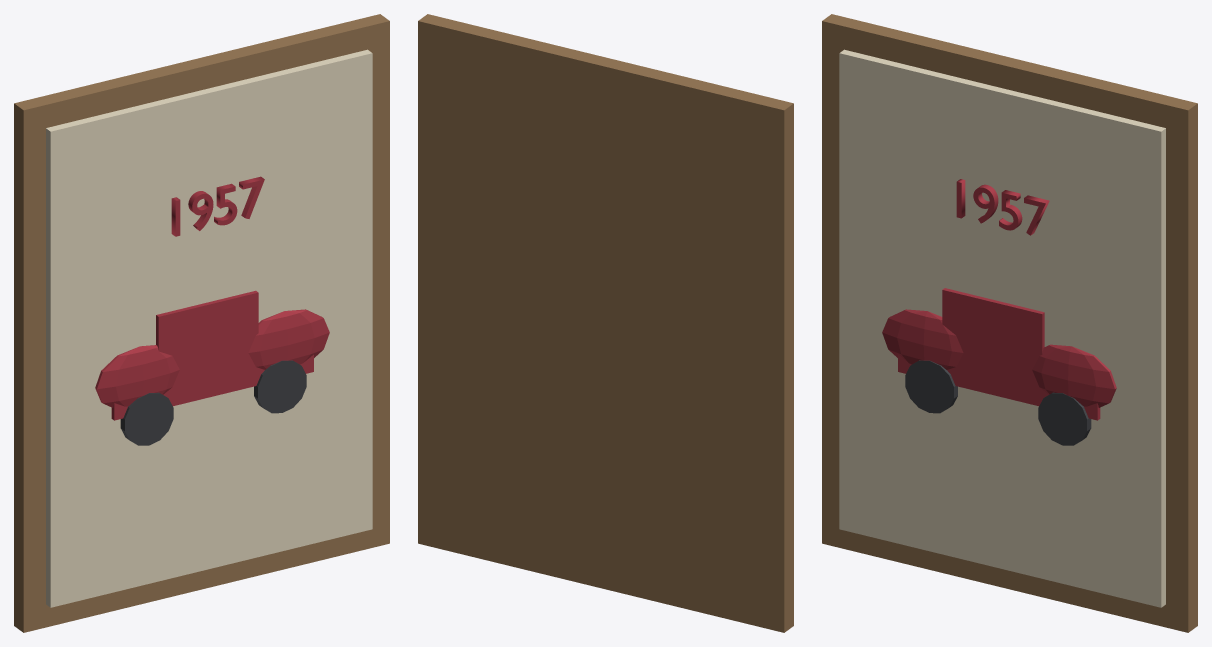
File: poster_vintage.glb
3 renders of one model, left to right at view 1: azimuth 30°, elevation 25°; view 2: azimuth 150°, elevation 25°; view 3: azimuth 330°, elevation 25°, orthographic.
Visible parts, largest first — view 1: poster_vintage; view 2: poster_vintage; view 3: poster_vintage.
Boxes of the visible parts, x1=… form: poster_vintage: x1=14, y1=14, x2=389, y2=632; poster_vintage: x1=418, y1=14, x2=793, y2=632; poster_vintage: x1=822, y1=14, x2=1197, y2=632.
Bounding box in the file's own units: 0.66 × 0.9 × 0.059.
